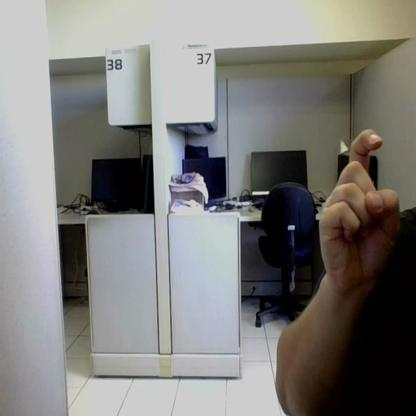X: (319, 129, 400, 287)
